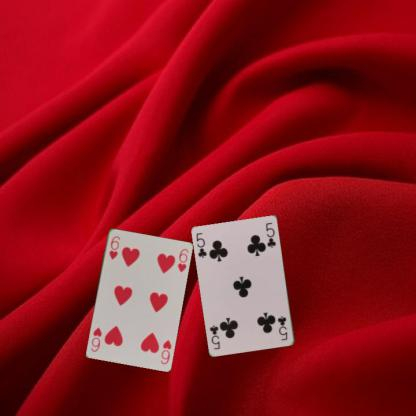5c: (194, 230, 208, 260), (275, 313, 289, 342)
6h: (106, 233, 121, 260), (158, 337, 172, 365)
